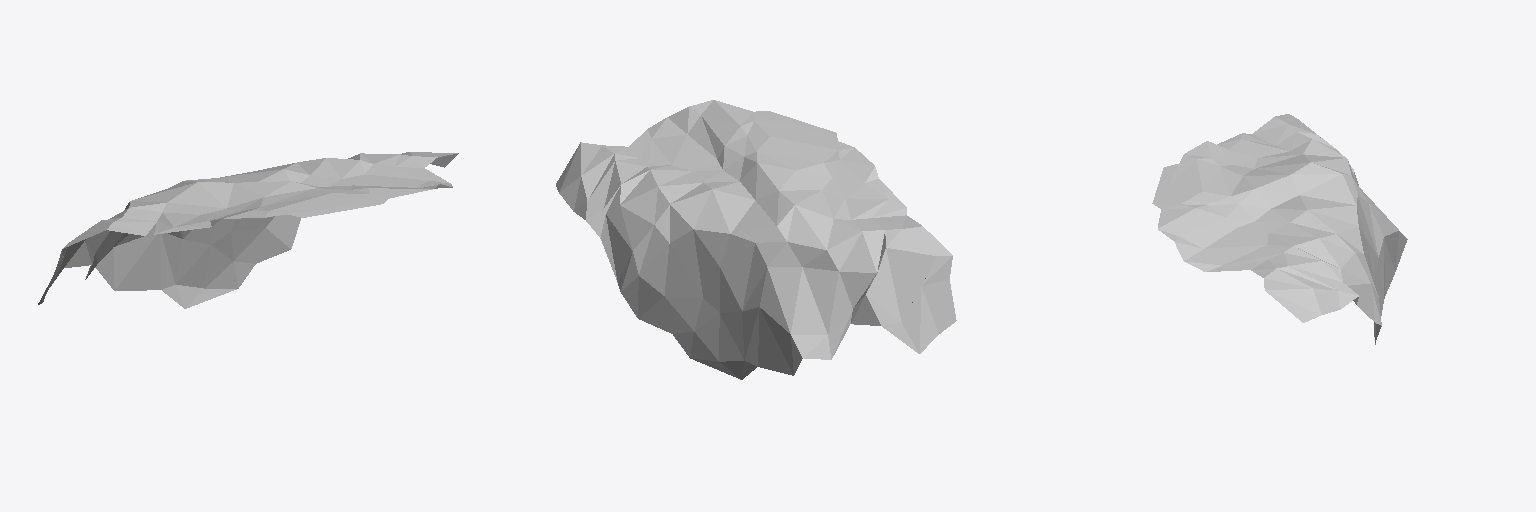
The model's file is MSH_env_grass-hanging-d.obj.
3 renders of one model, left to right at view 1: azimuth 30°, elevation 25°; view 2: azimuth 150°, elevation 25°; view 3: azimuth 270°, elevation 25°, orthographic.
Parts seen in each view (by area): view 1: MSH_env_grass_hanging_d group4; view 2: MSH_env_grass_hanging_d group4; view 3: MSH_env_grass_hanging_d group4.
Boxes of the visible parts, x1=… form: MSH_env_grass_hanging_d group4: x1=38, y1=152, x2=458, y2=308; MSH_env_grass_hanging_d group4: x1=556, y1=100, x2=956, y2=379; MSH_env_grass_hanging_d group4: x1=1152, y1=114, x2=1407, y2=344.
Bounding box in the file's own units: 68.28 × 27.04 × 37.6.